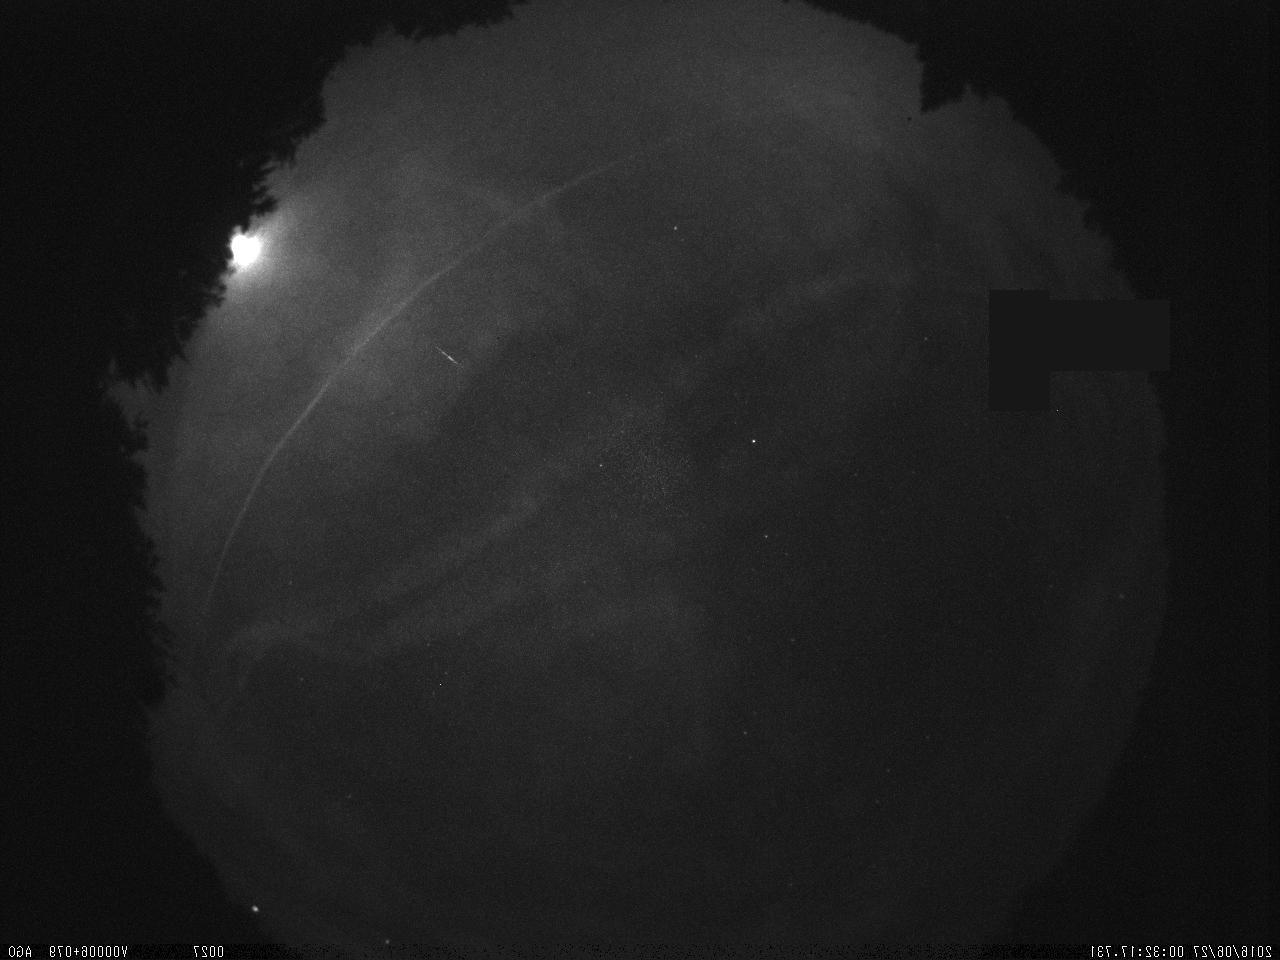meteor: (416, 332, 473, 375)
